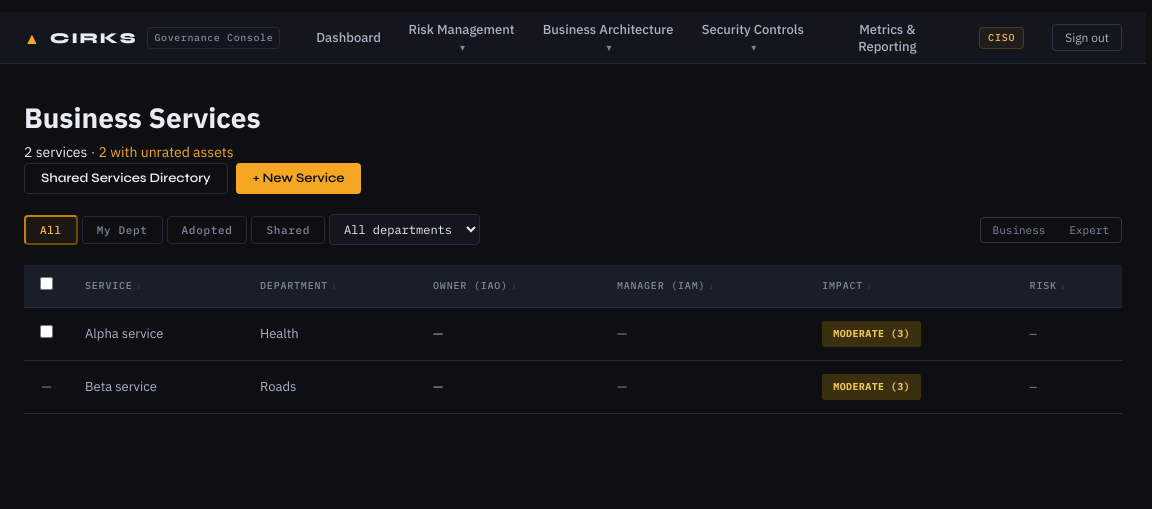
Scenario: deleting from the services list › select-all covers only the deletable rows, never the refused ones
Click the checkbox named "Select all deletable services" at (46, 284), box [40,277,53,290]
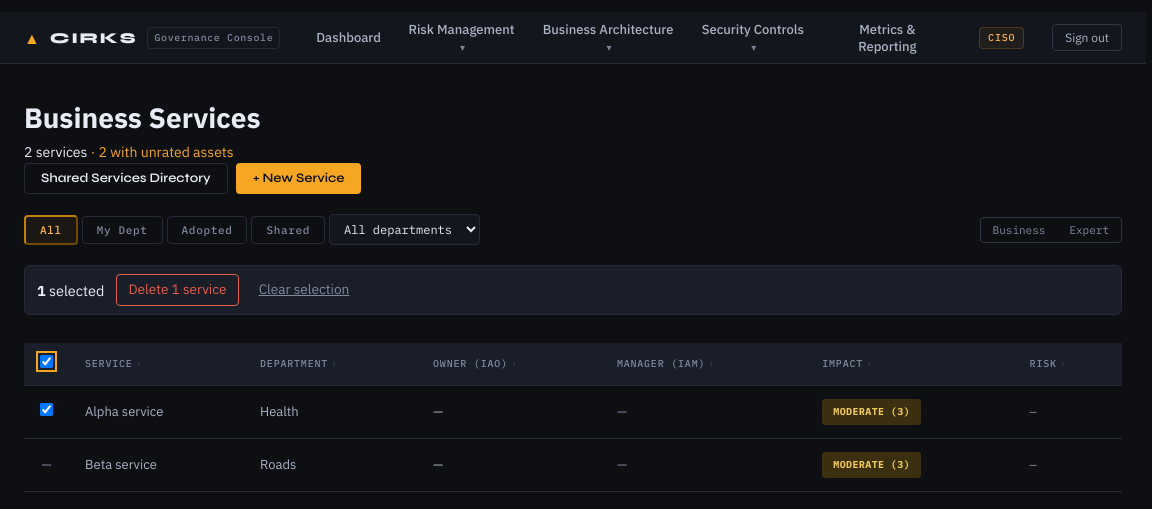
Expected: the text "1" is shown, [37,280,46,300]
